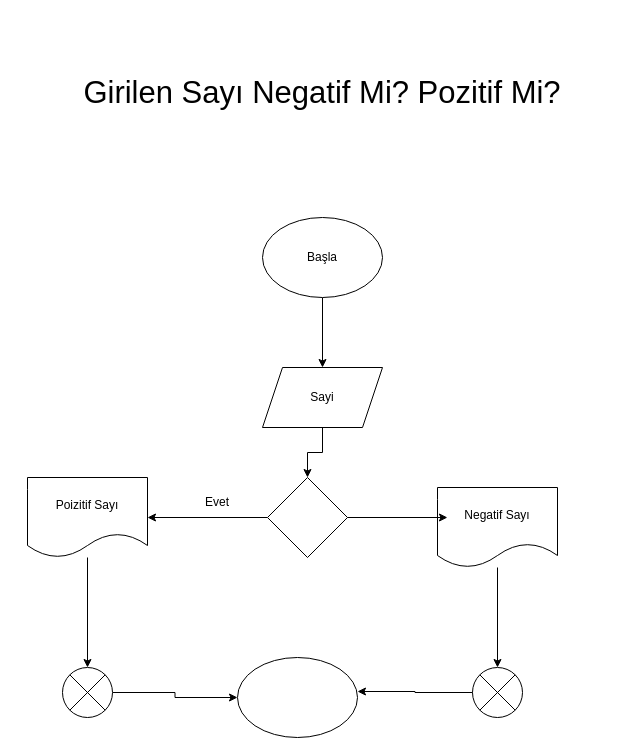
This 644x755 diagram has some shape labels left out. Each missing label, with the box of its shape:
Sayi > 0: (266, 476, 348, 558)
Son: (236, 656, 358, 738)
